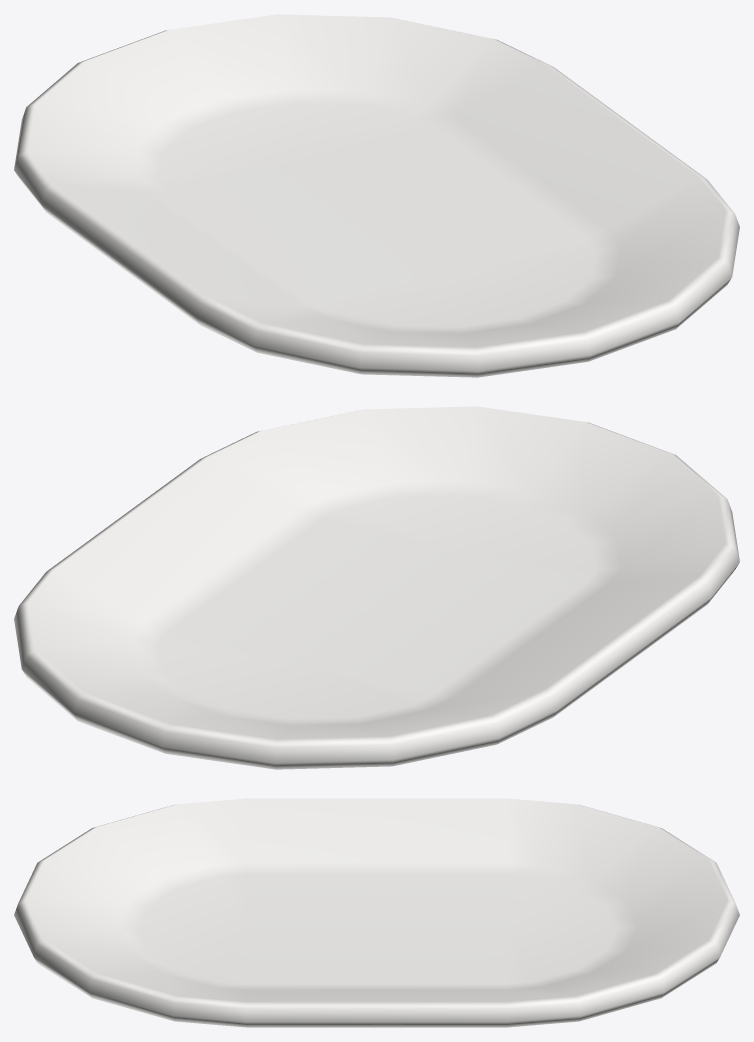
The model's file is Plate_3.glb.
The picture shows the model from 3 angles, top to bottom: view 1: azimuth 30°, elevation 25°; view 2: azimuth 150°, elevation 25°; view 3: azimuth 270°, elevation 25°; orthographic projection. The views are drawn at different scales.
Visible parts, largest first — view 1: Plate_3; view 2: Plate_3; view 3: Plate_3.
Part boxes in pixels (bbox=[...]): Plate_3: bbox=[14, 14, 739, 377]; Plate_3: bbox=[14, 406, 739, 769]; Plate_3: bbox=[14, 798, 739, 1027].
Bounding box in the file's own units: 0.3507 × 0.0404 × 0.5037.
Materials: 1 (1 with a texture image).
